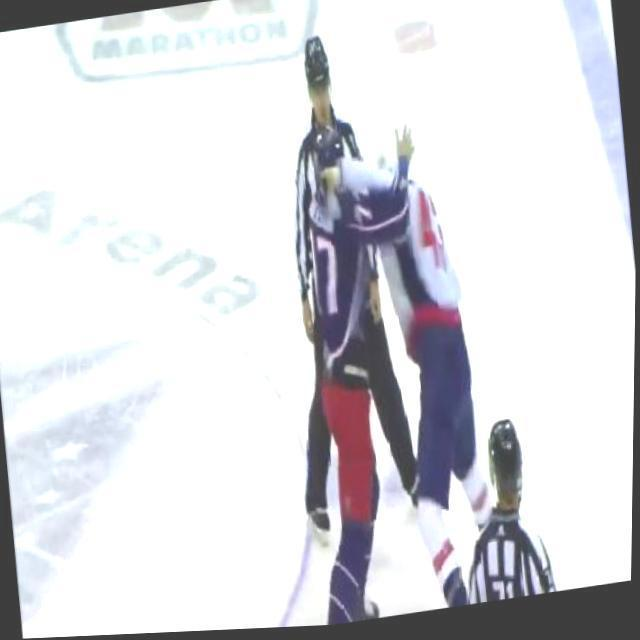fight: (286, 110, 508, 628)
